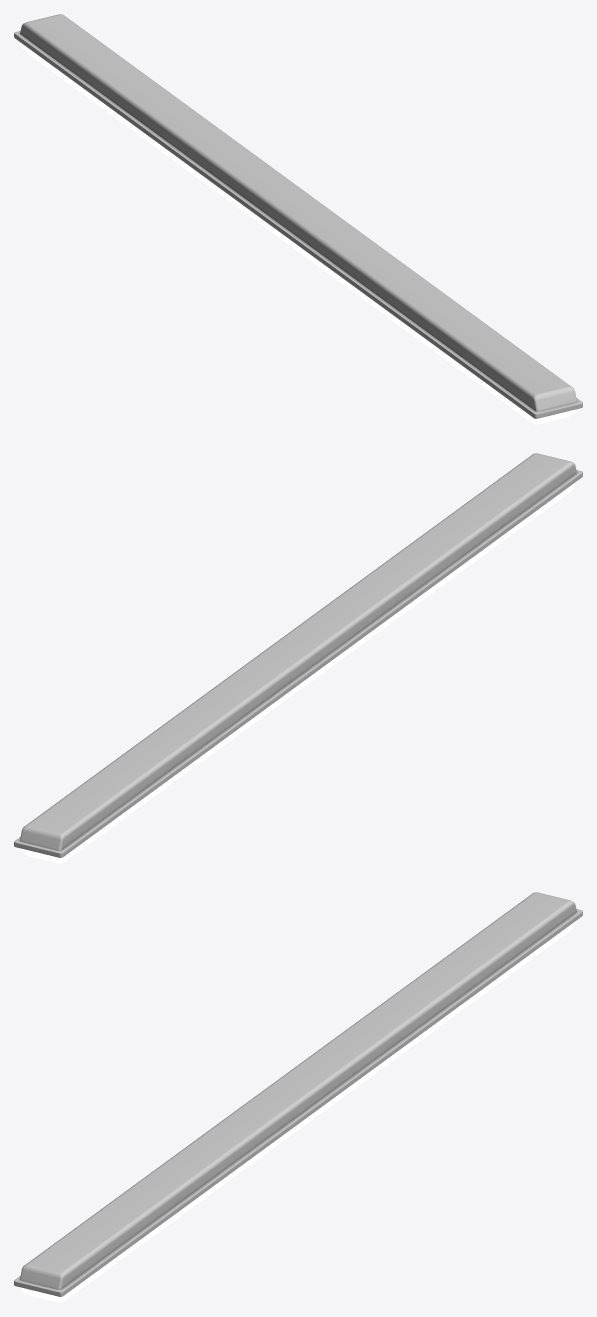
Rendered from fluorescent_light.glb.
3 views of the same model, one above another, from view 1: azimuth 30°, elevation 25°; view 2: azimuth 150°, elevation 25°; view 3: azimuth 330°, elevation 25° (orthographic).
Parts seen in each view (by area): view 1: TL__Light; view 2: TL__Light; view 3: TL__Light.
Part boxes in pixels (x1,y1,x2,y2): TL__Light: [14, 14, 582, 424]; TL__Light: [14, 453, 582, 863]; TL__Light: [14, 892, 582, 1302].
Size of the model in its own units: 0.118 by 0.0782 by 2.19.
Materials: 1 (1 with a texture image).
